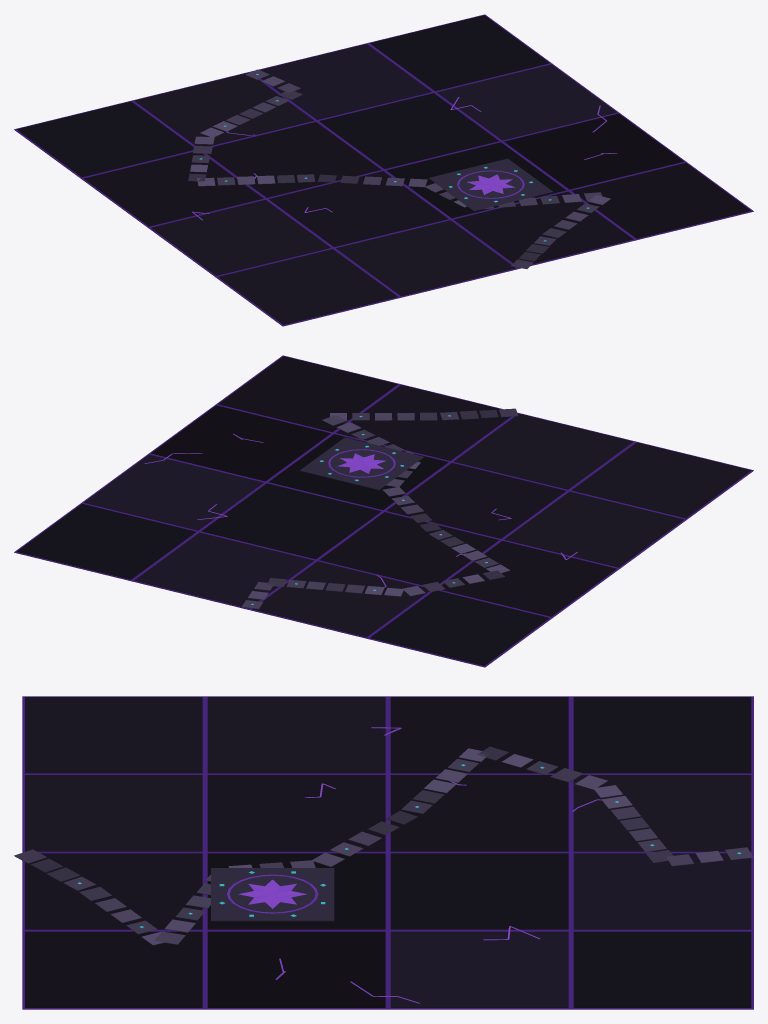
The model's file is Decor_VoidPortal_Ground.fbx.
3 renders of one model, top to bottom at view 1: azimuth 30°, elevation 25°; view 2: azimuth 150°, elevation 25°; view 3: azimuth 270°, elevation 25°, orthographic. The views are drawn at different scales.
Visible parts, largest first — view 1: Ground_Body; view 2: Ground_Body; view 3: Ground_Body.
Boxes of the visible parts, x1,y1,x2,y2 form: Ground_Body: (14,14,753,326); Ground_Body: (14,355,753,667); Ground_Body: (14,696,753,1009).
Size of the model in its own units: 190 by 0.58 by 190.
